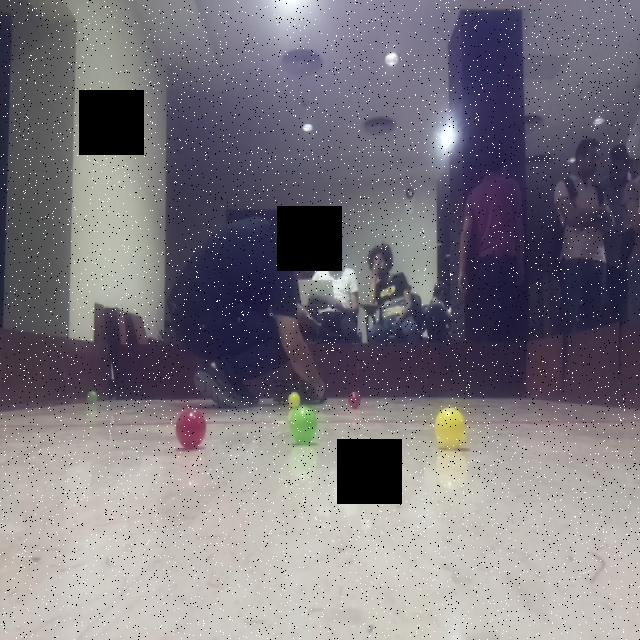ball: (83, 386, 104, 407)
